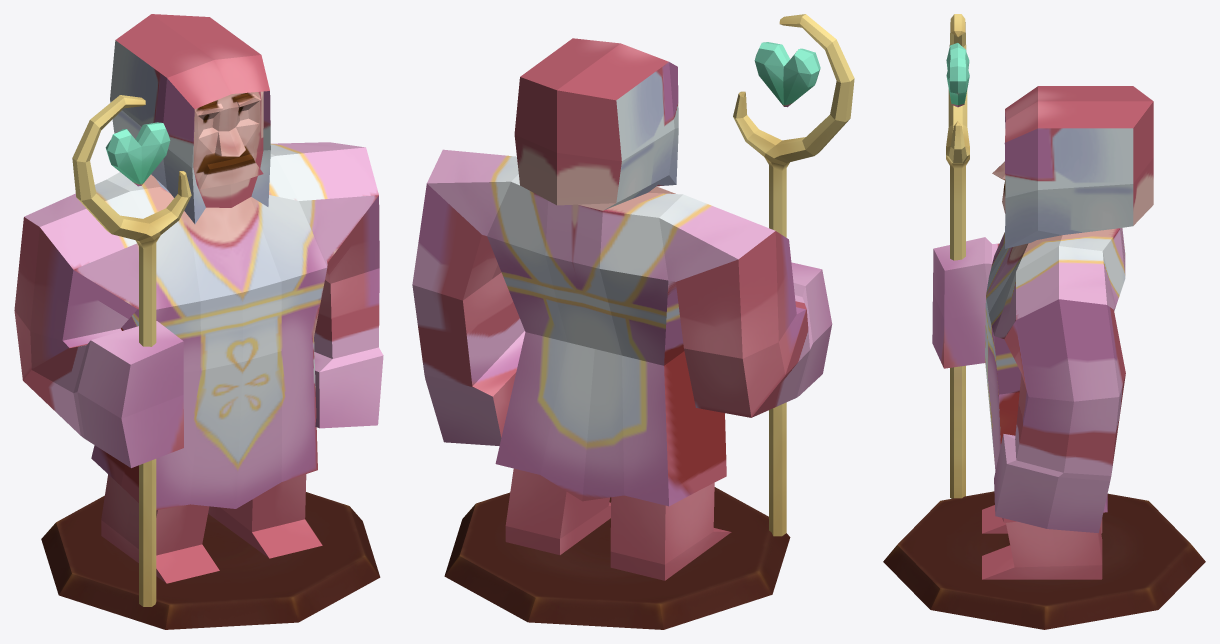
File: Asset_Pawn_Swag.fbx
The picture shows the model from 3 angles, left to right: view 1: azimuth 30°, elevation 25°; view 2: azimuth 150°, elevation 25°; view 3: azimuth 270°, elevation 25°; orthographic projection. The views are drawn at different scales.
Visible parts, largest first — view 1: STP_body, Swag_Stand, staff, STP_heart; view 2: STP_body, Swag_Stand, staff, STP_heart; view 3: STP_body, Swag_Stand, staff, STP_heart.
Boxes of the visible parts, x1,y1,x2,y2 form: STP_body: [14, 14, 383, 583]; Swag_Stand: [41, 492, 380, 629]; staff: [72, 95, 191, 606]; STP_heart: [105, 122, 170, 186]; STP_body: [412, 38, 832, 580]; Swag_Stand: [444, 487, 790, 629]; staff: [733, 14, 854, 536]; STP_heart: [754, 42, 820, 107]; STP_body: [932, 86, 1153, 579]; Swag_Stand: [883, 491, 1205, 629]; staff: [946, 14, 969, 498]; STP_heart: [946, 43, 969, 107].
Size of the model in its own units: 52.06 by 74.4 by 44.72.
